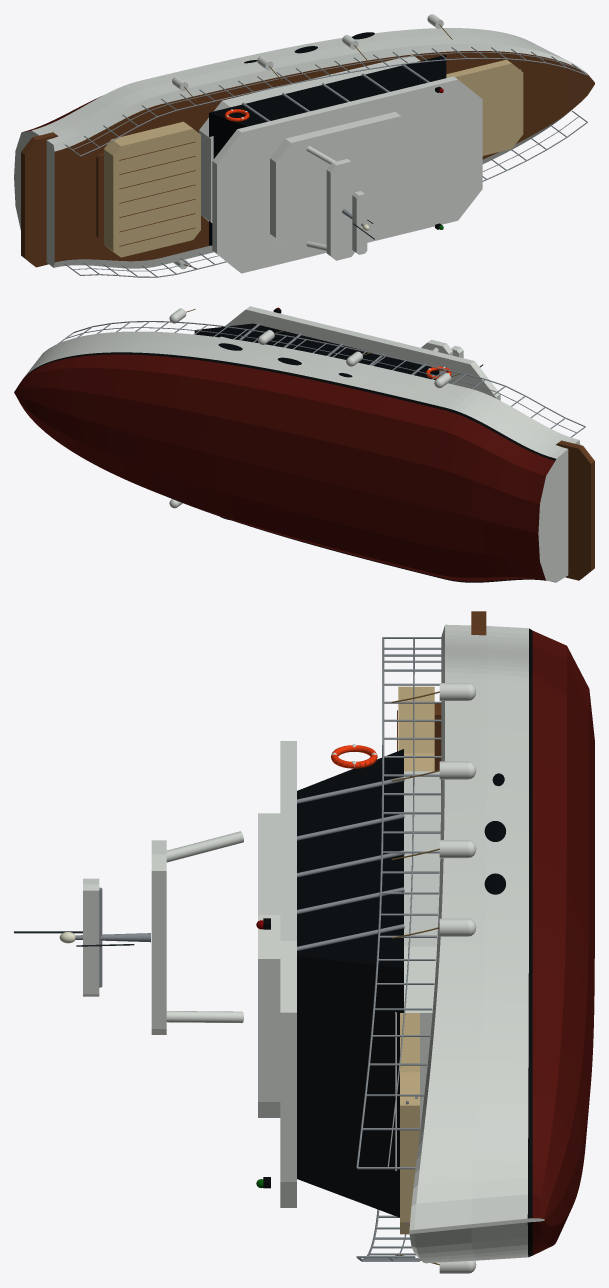
File: motor_yacht.obj
3 renders of one model, top to bottom at view 1: azimuth 30°, elevation 25°; view 2: azimuth 150°, elevation 25°; view 3: azimuth 270°, elevation 25°, orthographic. The views are drawn at different scales.
Size of the model in its own units: 14.57 by 4.7 by 7.
